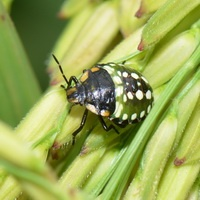insect: (52, 54, 152, 127)
